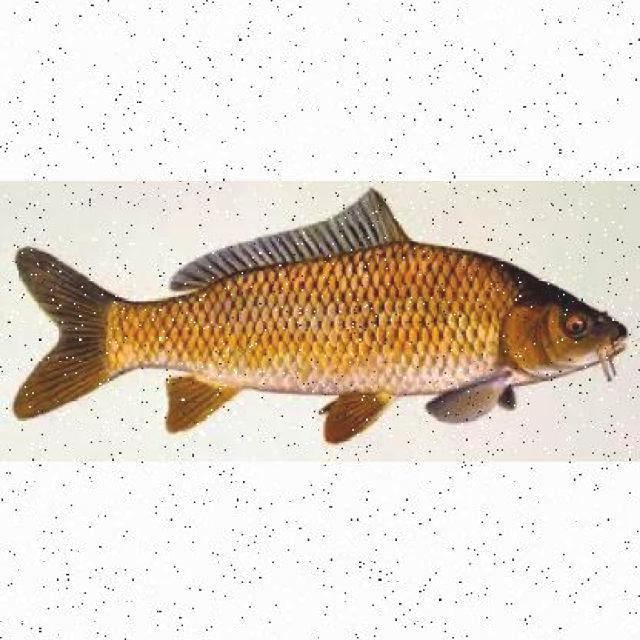ikan-mas: (7, 192, 630, 426)
